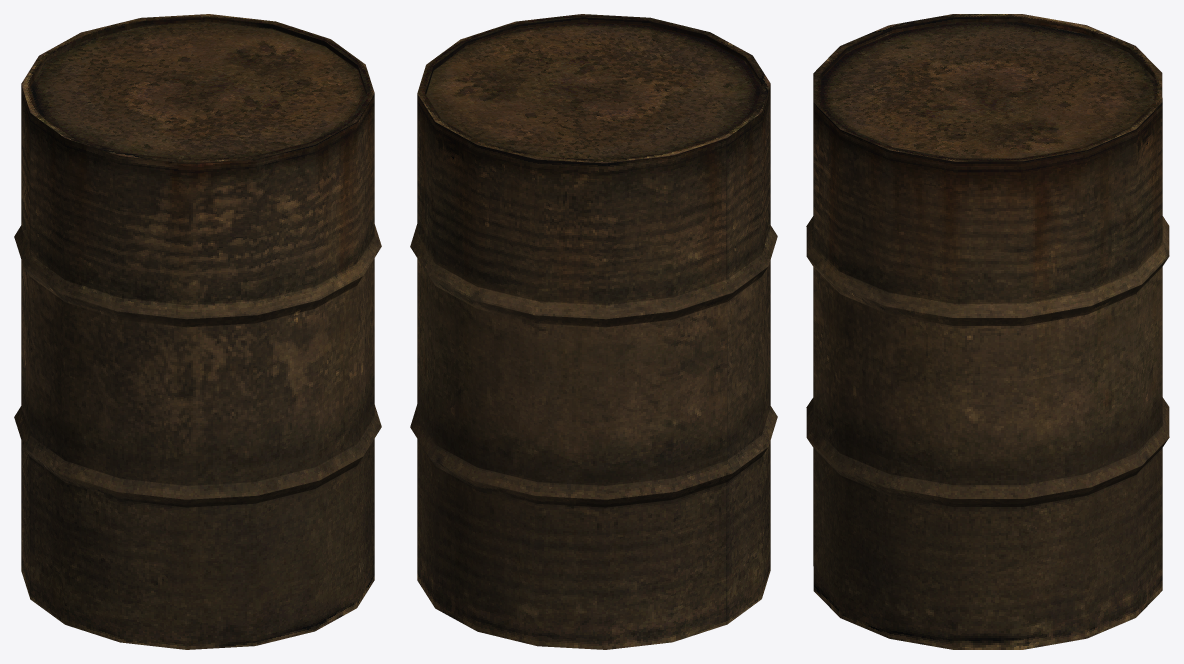
File: metal_barrel_hr_4_1.glb
The picture shows the model from 3 angles, left to right: view 1: azimuth 30°, elevation 25°; view 2: azimuth 150°, elevation 25°; view 3: azimuth 270°, elevation 25°; orthographic projection.
Visible parts, largest first — view 1: metal_barrel_hr_4_1; view 2: metal_barrel_hr_4_1; view 3: metal_barrel_hr_4_1.
Part boxes in pixels (box(x1,y1,x2,y2)): metal_barrel_hr_4_1: box(14, 14, 381, 649); metal_barrel_hr_4_1: box(410, 14, 777, 649); metal_barrel_hr_4_1: box(806, 14, 1169, 649).
Bounding box in the file's own units: 0.6735 × 1 × 0.6735.
Materials: 1 (1 with a texture image).
